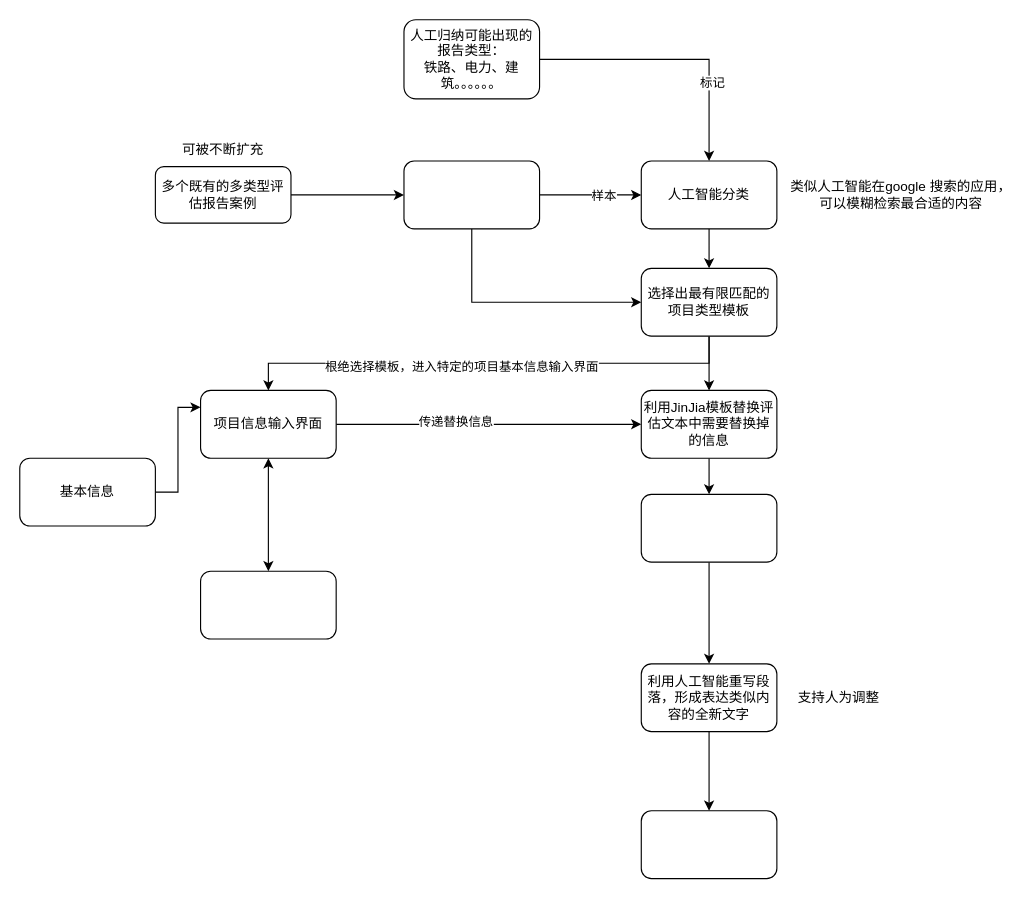
Some shapes in this 1034 by 898 pixel diagram are drawn without their labels. Each missing label, with the centre of its shape:
以段落为基本单位，标题为索引，拆分段落: point (708, 527)
提炼每个类型的案例的特点，如报告中综述的某个段落，用于区分不同类型的报告: point (471, 194)
重写完所有段落后，输出信息的文本: point (708, 844)
需要计算的信息: point (267, 604)
